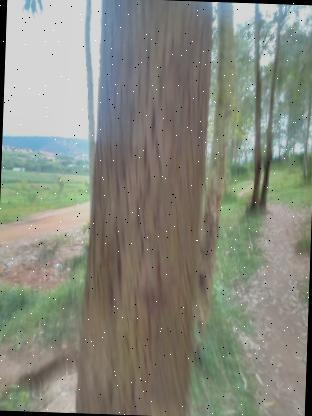tree: (66, 0, 231, 416)
